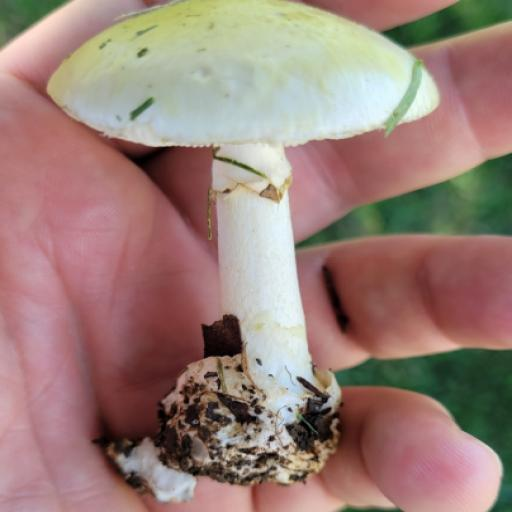mushroom: (48, 0, 415, 149), (205, 138, 313, 394)
